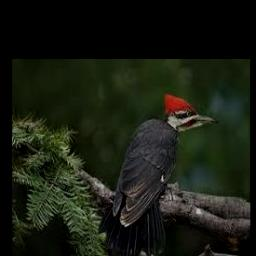Woodpecker: (100, 92, 217, 256)
